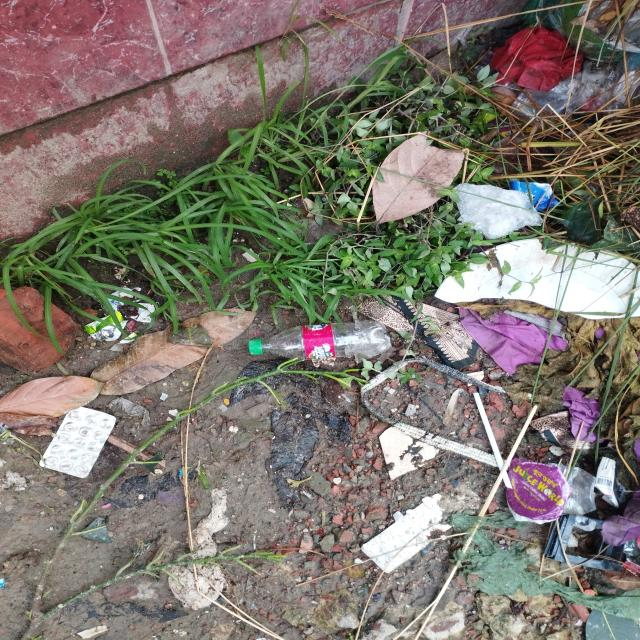plastic: (248, 320, 390, 364)
